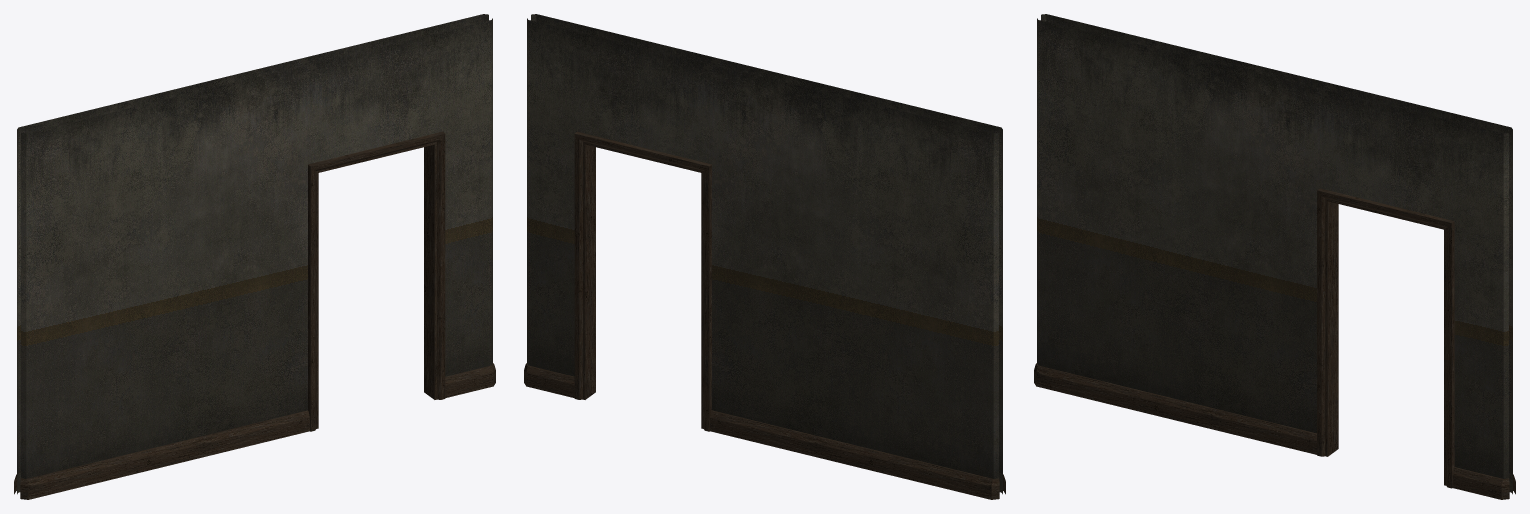
The model's file is side_doorway_1.glb.
3 renders of one model, left to right at view 1: azimuth 30°, elevation 25°; view 2: azimuth 150°, elevation 25°; view 3: azimuth 330°, elevation 25°, orthographic.
Parts seen in each view (by area): view 1: side_doorway_1; view 2: side_doorway_1; view 3: side_doorway_1.
Part boxes in pixels (bbox=[...]): side_doorway_1: bbox=[14, 14, 495, 499]; side_doorway_1: bbox=[524, 14, 1005, 499]; side_doorway_1: bbox=[1034, 14, 1515, 499].
Bounding box in the file's own units: 4.09 × 3 × 0.2.
2 materials, 2 textured.
